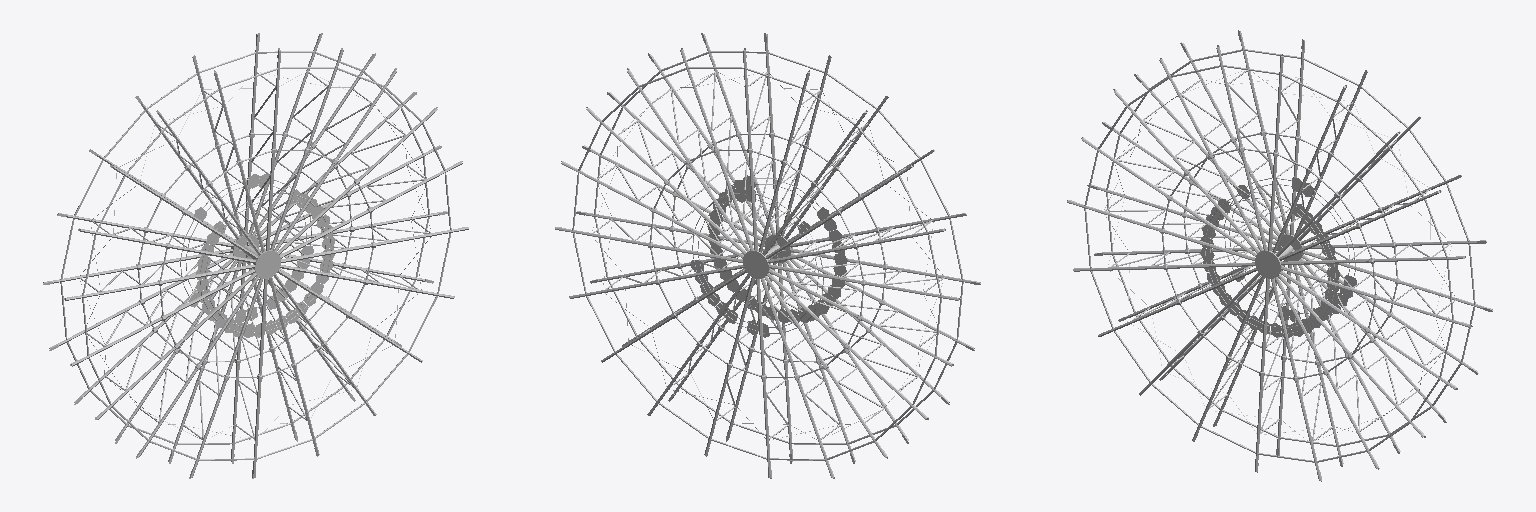
Rendered from rueda_fortuna_parte_una_hong.obj.
The picture shows the model from 3 angles: view 1: azimuth 30°, elevation 25°; view 2: azimuth 150°, elevation 25°; view 3: azimuth 330°, elevation 25°; orthographic projection.
Parts seen in each view (by area): view 1: 2, 3, 4, 6, 1; view 2: 2, 3, 4, 6, 1; view 3: 2, 3, 4, 6, 1.
Part boxes in pixels (bbox=[...]): 2: bbox=[43, 33, 468, 478]; 3: bbox=[60, 51, 451, 460]; 4: bbox=[79, 71, 431, 440]; 6: bbox=[189, 174, 335, 337]; 1: bbox=[231, 234, 280, 278]; 2: bbox=[555, 33, 980, 478]; 3: bbox=[572, 51, 963, 460]; 4: bbox=[592, 71, 944, 440]; 6: bbox=[691, 175, 847, 337]; 1: bbox=[743, 234, 792, 278]; 2: bbox=[1067, 30, 1492, 481]; 3: bbox=[1084, 49, 1475, 462]; 4: bbox=[1104, 70, 1456, 441]; 6: bbox=[1200, 178, 1356, 337]; 1: bbox=[1255, 233, 1303, 278].
Size of the model in its own units: 22.32 by 22.32 by 2.36.